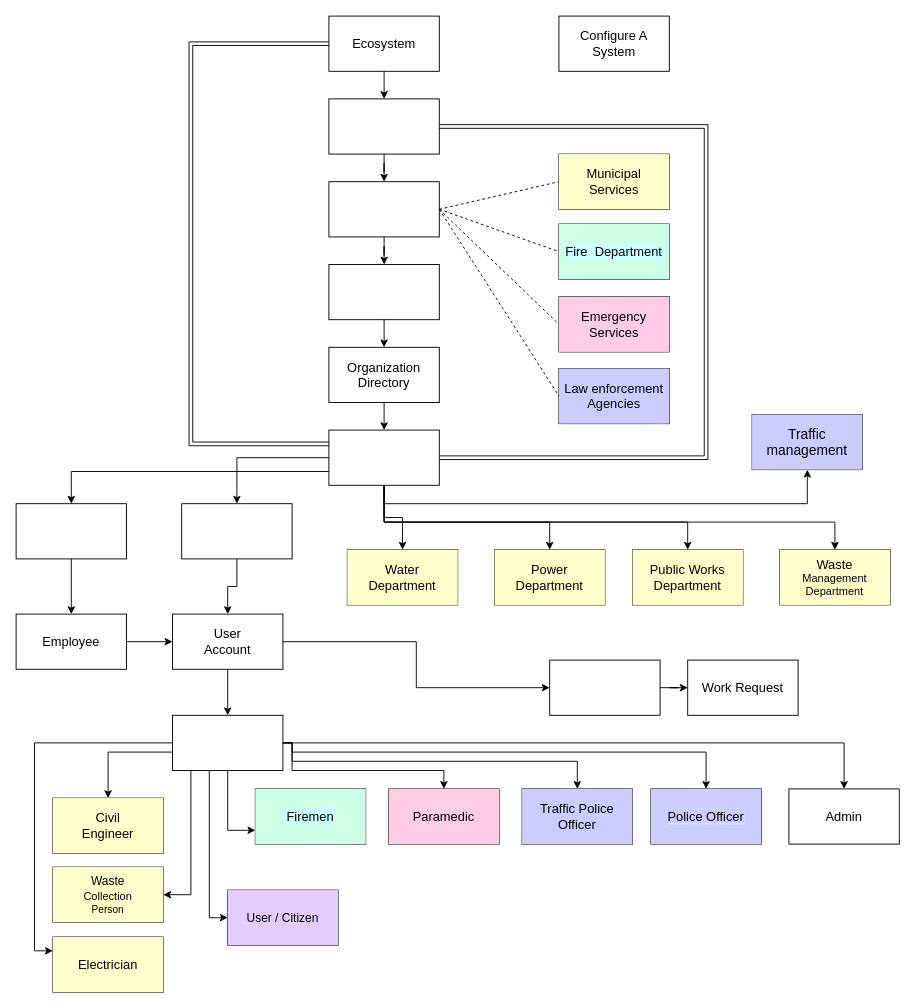
Image size: 915x1008. Some labels were removed from this diagram. Here are the shapes that lost their labels. From the top down, the centre of each, then its label:
(x=383, y=126): Network
(x=383, y=209): Enterprise Directory
(x=383, y=292): Enterprise
(x=383, y=457): Organization
(x=70, y=531): Employee Directory
(x=236, y=531): User Directory
(x=604, y=687): Work Queue
(x=227, y=742): Role
